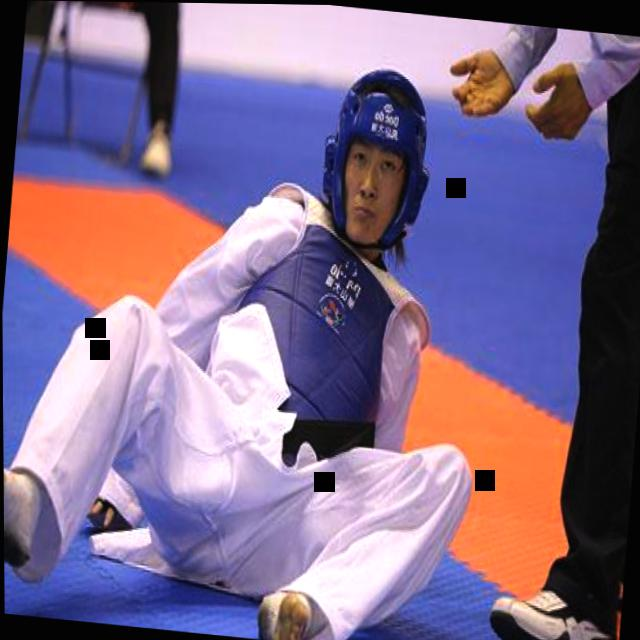Fall-Detected: (0, 33, 490, 640)
